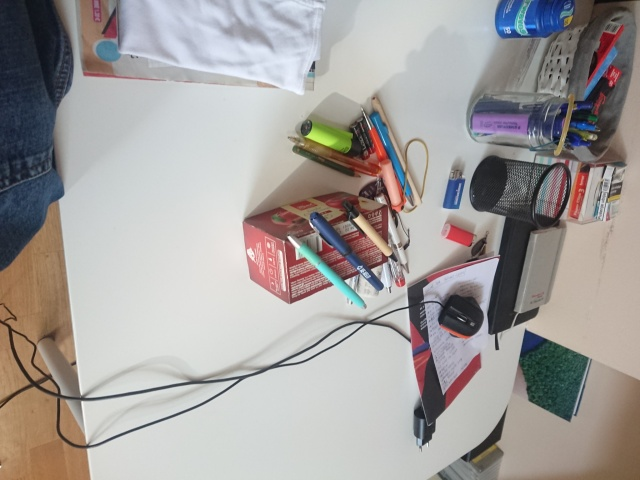Franck Apple Cinnamon Tea 60g: (239, 188, 390, 305)
